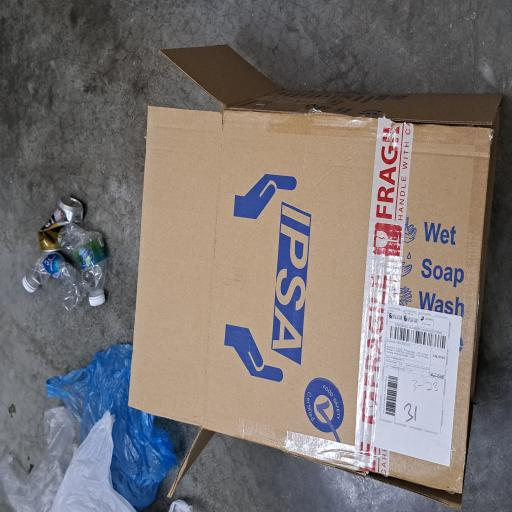can: (195, 51, 237, 111)
cardboard: (0, 167, 351, 512)
plastic bag: (1, 61, 128, 240), (0, 66, 76, 186), (0, 0, 81, 105)
plastic bottle: (162, 77, 218, 143), (151, 36, 195, 119)
plastic bottle cap: (164, 30, 178, 48), (154, 118, 164, 140)
